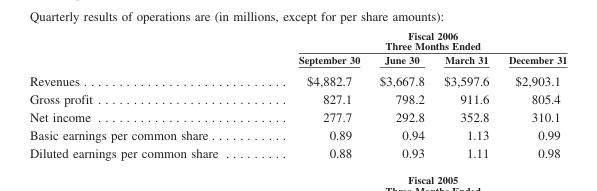table: (28, 28, 566, 160)
table column: (28, 28, 257, 160), (257, 28, 369, 160), (498, 28, 566, 160), (433, 28, 498, 160), (369, 28, 433, 160)
table column header: (28, 28, 566, 69)
table row: (28, 28, 566, 52), (28, 69, 566, 89), (28, 89, 566, 107), (28, 107, 566, 125), (28, 125, 566, 143), (28, 52, 566, 69), (28, 143, 566, 160)
table spanning cell: (257, 28, 566, 52)
